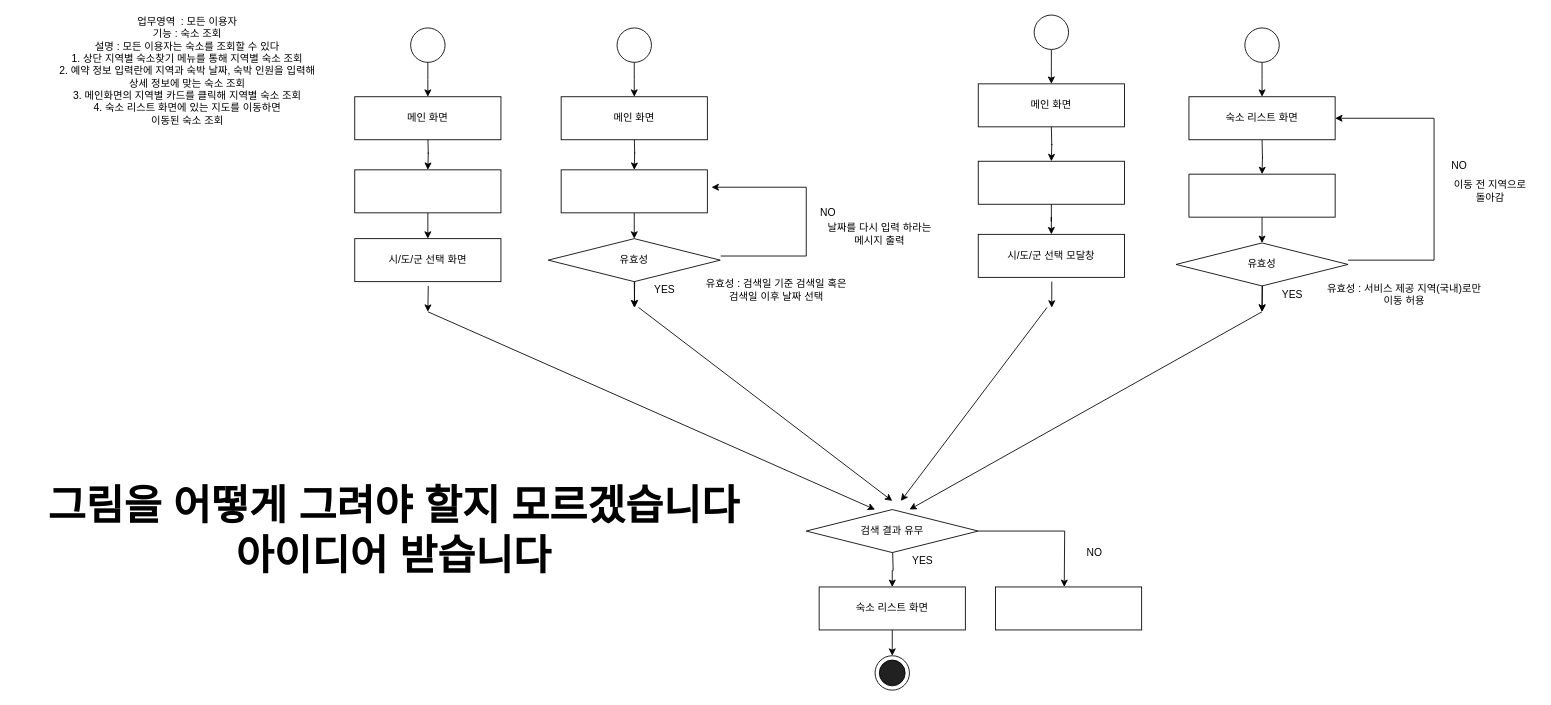
The diagram is 1551 pixels wide and 705 high, and some of its shapes have lost their labels. Each missing label, with the centre of its shape:
"결과 없음 페이지" belongs at (x=1068, y=608).
"상단 메뉴의 지역별 숙소찾기" belongs at (x=427, y=191).
"지도 이동" belongs at (x=1261, y=195).
"지역, 날짜, 인원 입력" belongs at (x=633, y=191).
"지역별 카드 선택" belongs at (x=1050, y=182).
